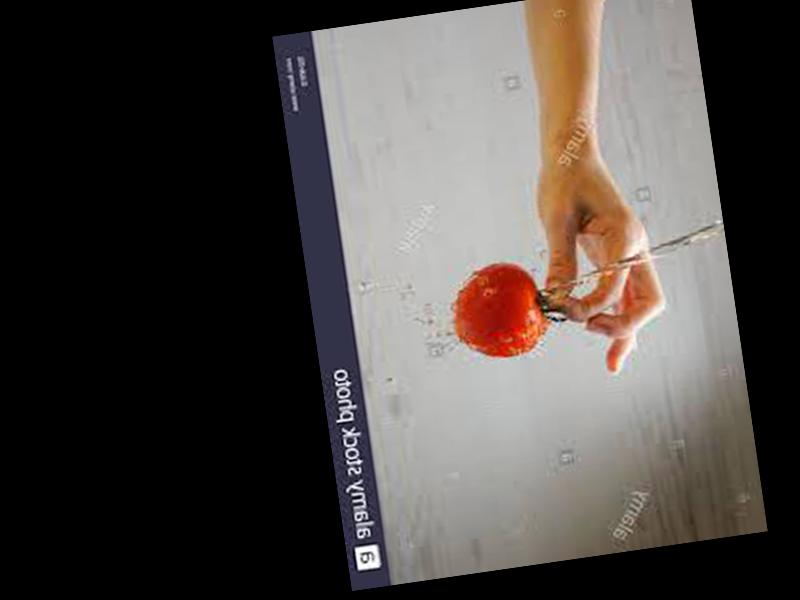Tomato: (444, 255, 548, 361)
